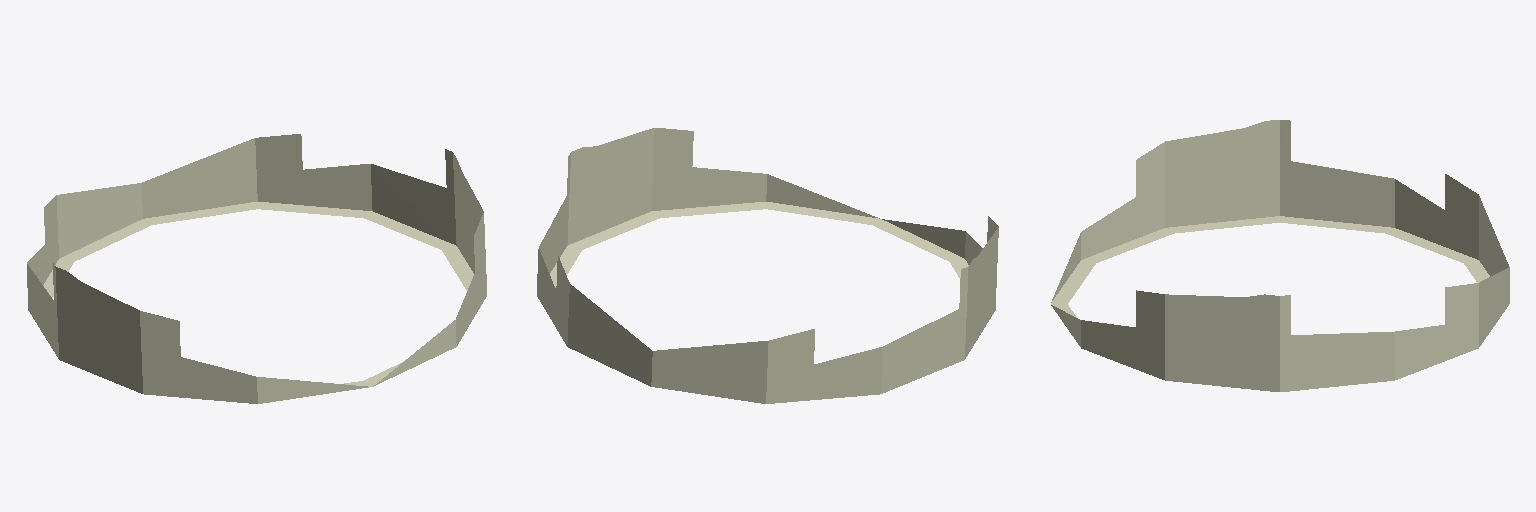
File: original-65.obj
The picture shows the model from 3 angles: view 1: azimuth 30°, elevation 25°; view 2: azimuth 150°, elevation 25°; view 3: azimuth 270°, elevation 25°; orthographic projection.
Visible parts, largest first — view 1: #ID378; view 2: #ID378; view 3: #ID378.
Boxes of the visible parts, x1,y1,x2,y2 form: #ID378: [27, 134, 486, 403]; #ID378: [537, 128, 998, 403]; #ID378: [1051, 120, 1509, 391].
Size of the model in its own units: 0.0158 by 0.0042 by 0.0157.